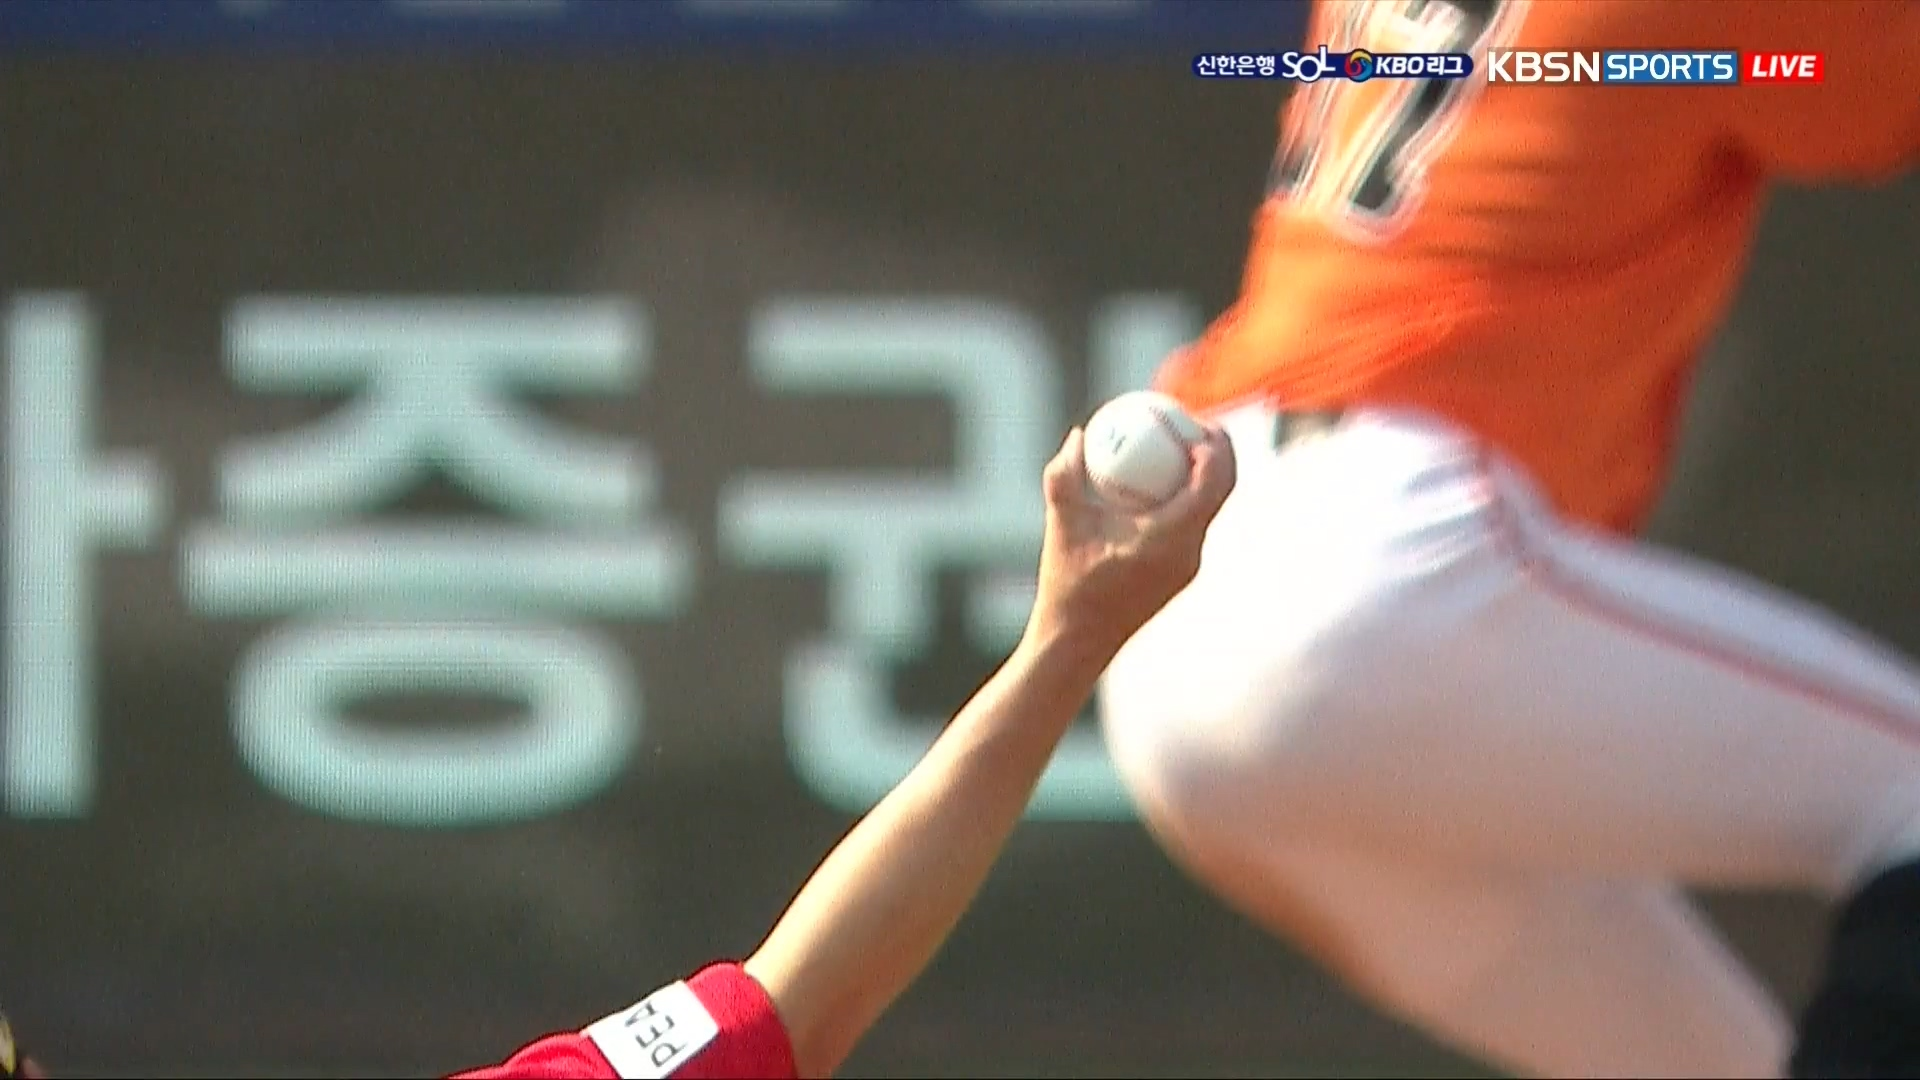zoomin_hand: (746, 376, 1255, 1072)
